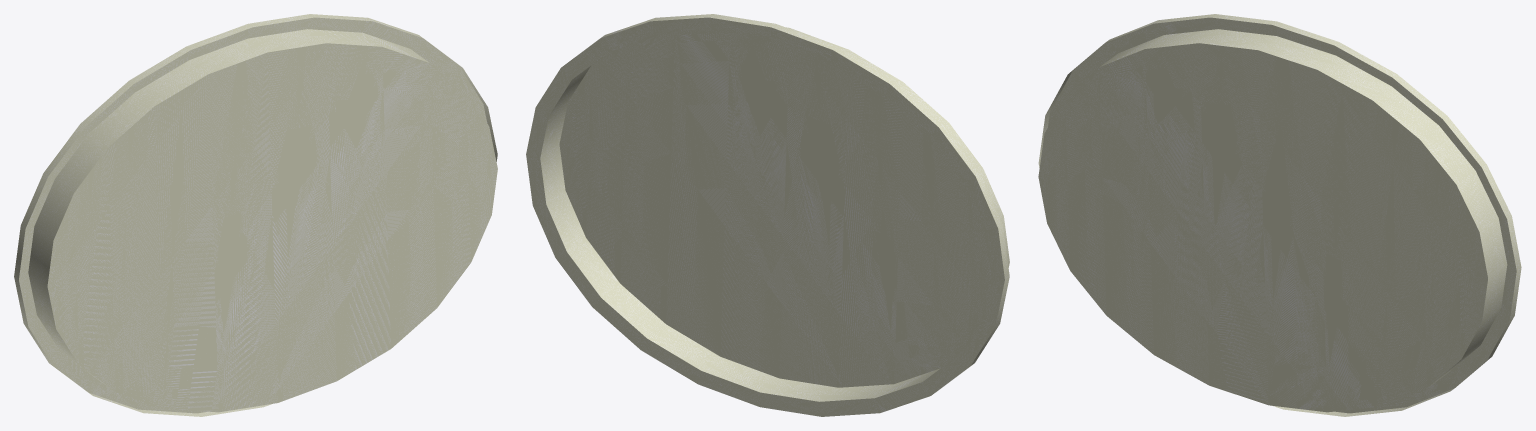
File: original-68.obj
The picture shows the model from 3 angles, left to right: view 1: azimuth 30°, elevation 25°; view 2: azimuth 150°, elevation 25°; view 3: azimuth 330°, elevation 25°; orthographic projection.
Visible parts, largest first — view 1: mesh52/mesh52-geometry/material_6/component_0#mesh52-geometry; view 2: mesh52/mesh52-geometry/material_6/component_0#mesh52-geometry; view 3: mesh52/mesh52-geometry/material_6/component_0#mesh52-geometry.
Part boxes in pixels (box(x1,y1,x2,y2)): mesh52/mesh52-geometry/material_6/component_0#mesh52-geometry: box(14, 14, 497, 416); mesh52/mesh52-geometry/material_6/component_0#mesh52-geometry: box(526, 14, 1009, 416); mesh52/mesh52-geometry/material_6/component_0#mesh52-geometry: box(1038, 14, 1521, 416).
Size of the model in its own units: 0.1089 by 0.0832 by 0.00756.
